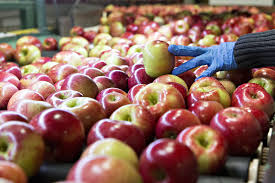apple: (29, 111, 86, 159), (141, 140, 199, 183), (209, 105, 266, 148), (175, 123, 230, 167), (88, 118, 144, 151), (142, 41, 184, 83), (136, 79, 189, 111), (111, 102, 158, 136), (191, 76, 231, 109), (235, 84, 273, 114), (64, 74, 102, 100)
